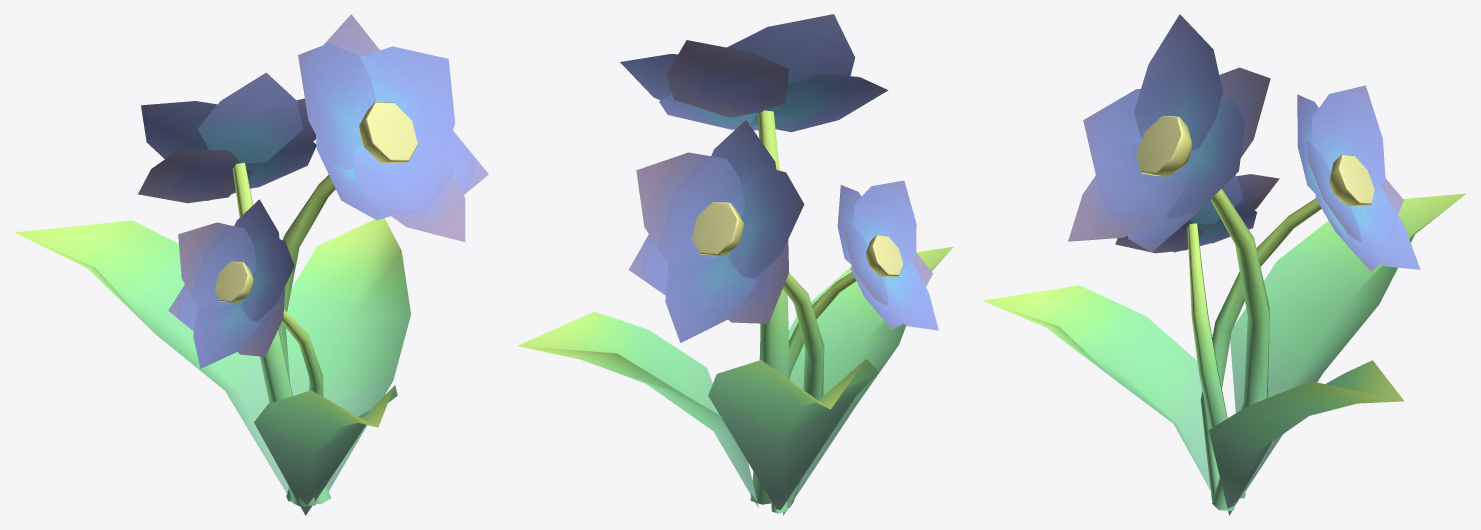
The model's file is Flower.024_Base_Material_0.fbx.
3 views of the same model, side by side, from view 1: azimuth 30°, elevation 25°; view 2: azimuth 150°, elevation 25°; view 3: azimuth 270°, elevation 25° (orthographic). The views are drawn at different scales.
Visible parts, largest first — view 1: Flower.024_Base_Material_0_export; view 2: Flower.024_Base_Material_0_export; view 3: Flower.024_Base_Material_0_export.
Boxes of the visible parts, left/top/right/bottom form: Flower.024_Base_Material_0_export: left=14, top=14, right=488, bottom=515; Flower.024_Base_Material_0_export: left=518, top=14, right=953, bottom=515; Flower.024_Base_Material_0_export: left=983, top=14, right=1465, bottom=515.
Size of the model in its own units: 2.43 by 3.31 by 3.01.
